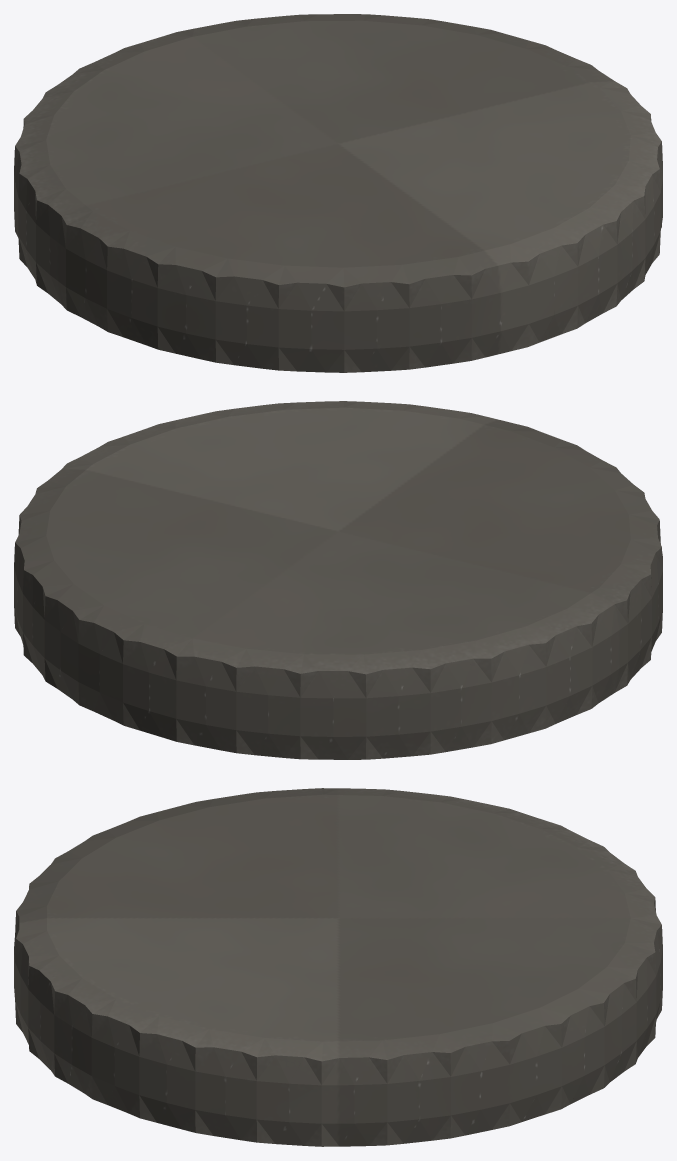
File: othello_disc_obsidian_01.glb
3 views of the same model, one above another, from view 1: azimuth 30°, elevation 25°; view 2: azimuth 150°, elevation 25°; view 3: azimuth 270°, elevation 25° (orthographic).
Visible parts, largest first — view 1: disc-convcol; view 2: disc-convcol; view 3: disc-convcol.
Part boxes in pixels (x1,y1,x2,y2): disc-convcol: [14, 14, 662, 372]; disc-convcol: [14, 401, 662, 759]; disc-convcol: [14, 788, 662, 1146].
Size of the model in its own units: 0.0425 by 0.00713 by 0.0425.
1 material, 1 textured.
